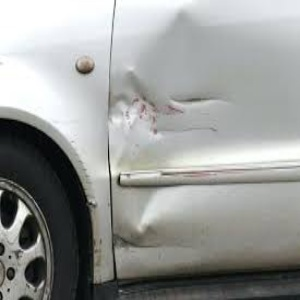door_scratch: (112, 61, 245, 197)
